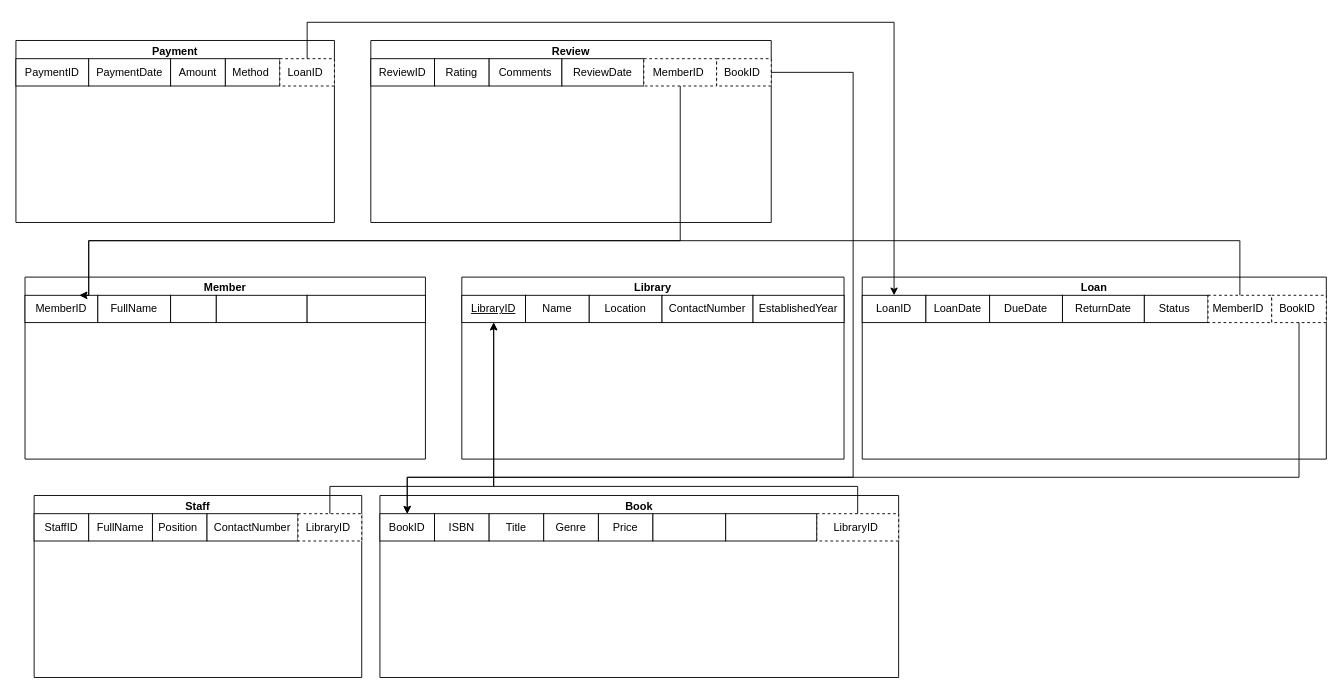
Some shapes in this 1342 by 693 pixel diagram are drawn without their labels. Each missing label, with the centre of its shape:
"Availability" goes at point (689, 527).
"Email" goes at point (193, 308).
"MembershipStartDate" goes at point (365, 308).
"PhoneNumber" goes at point (261, 308).
"ShelfLocation" goes at point (771, 527).
